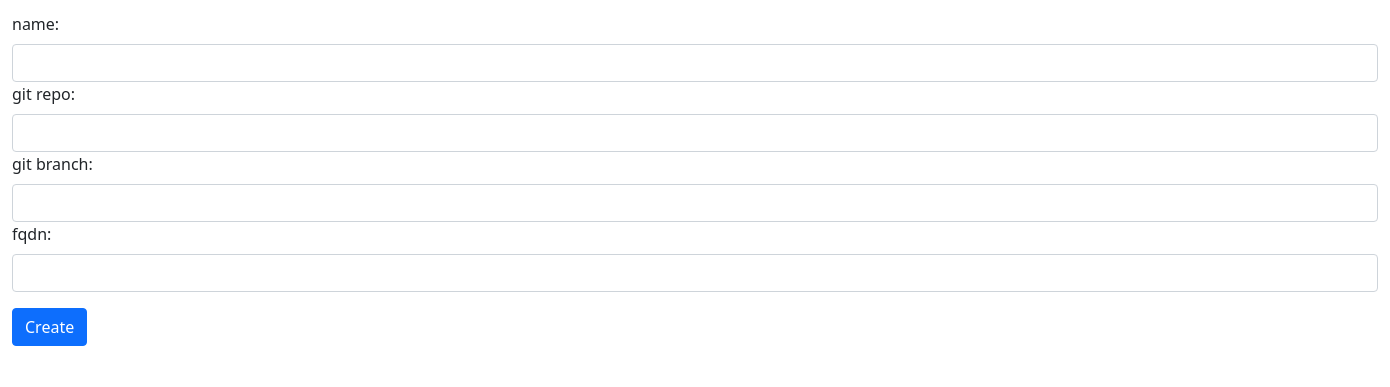
Test: AppNginxAdd › submit nginx app
This screenshot has width=1390, height=387.
Type "test-aa" into the field with test id "nginx-add-name" at (695, 63), box [12, 44, 1378, 82]
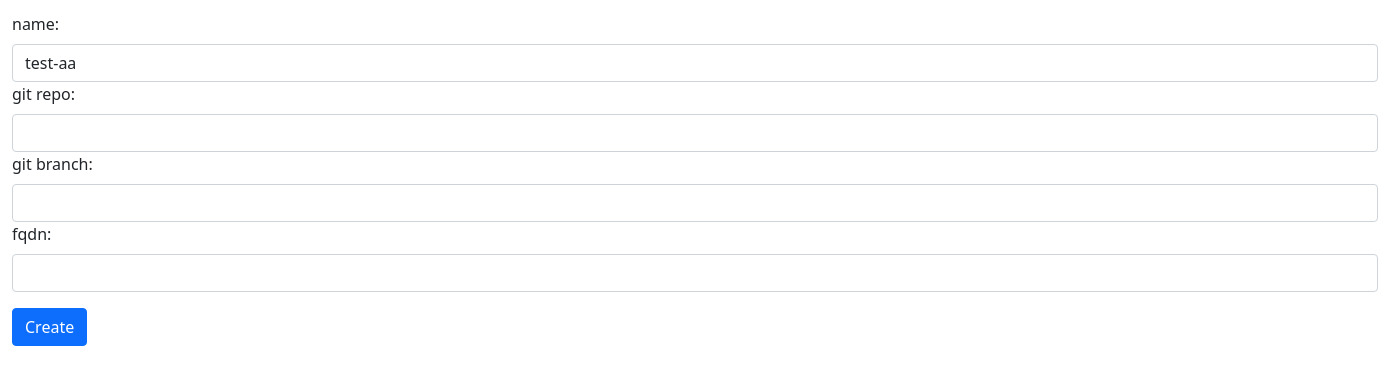
Click the button "Create" at (50, 327), box [12, 308, 87, 346]
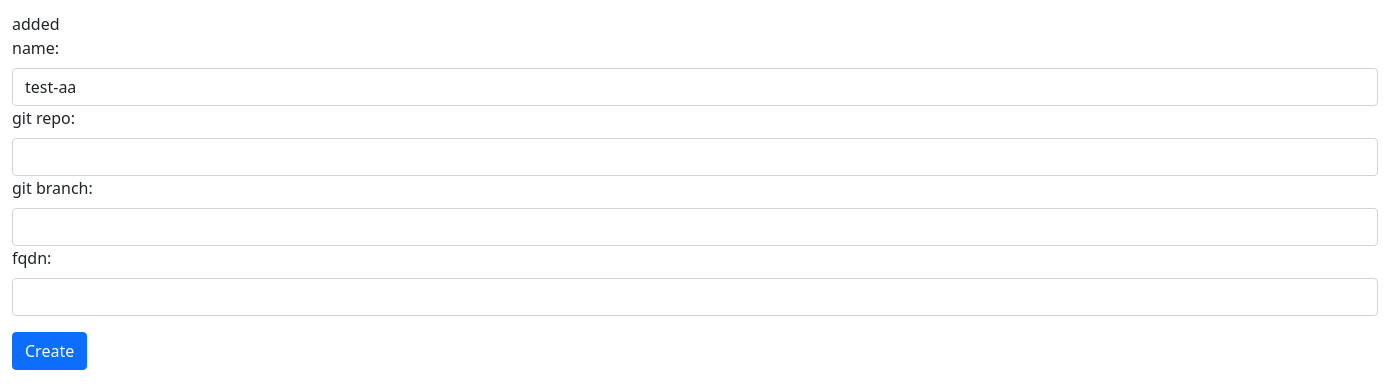
Expected: the text with test id "nginx-add-message" reads "added", [12, 13, 60, 35]
